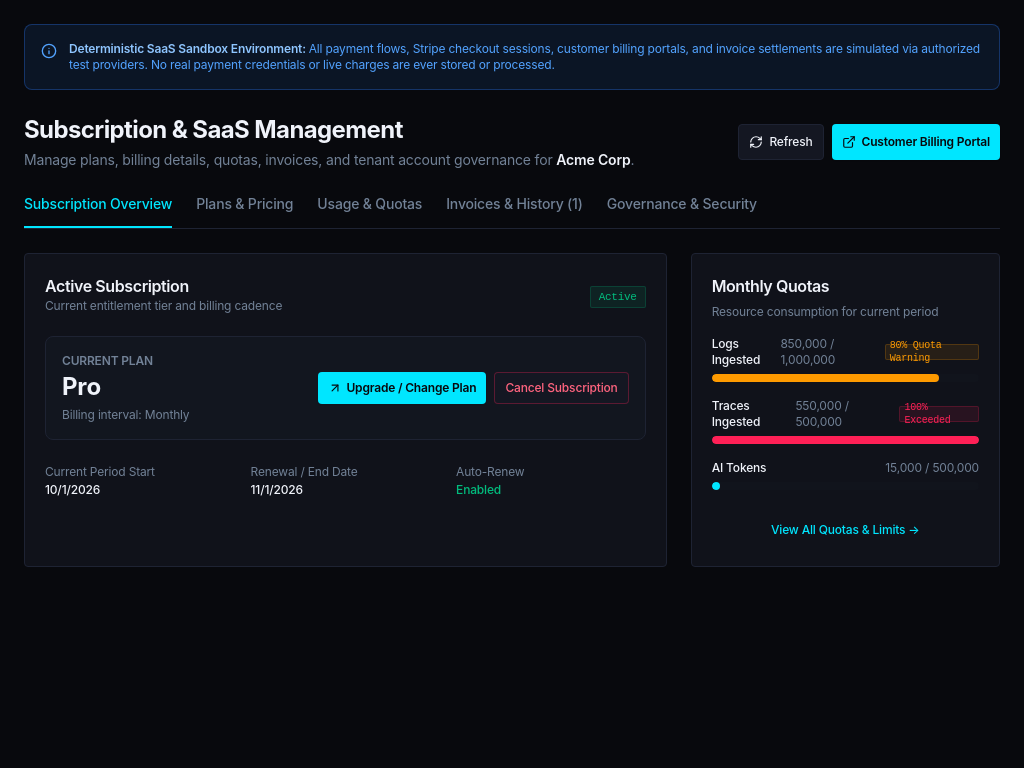
Test: BillingPage SaaS Management › renders usage and quota bars with warning and exceeded badges
Expected: the text "Acme Corp" is shown, [556, 151, 630, 168]
Expected: the button "Invoices & History (1)" is shown, [446, 194, 583, 228]
Step 1. Click the button "Usage & Quotas" → x=370, y=211, box [317, 194, 422, 228]
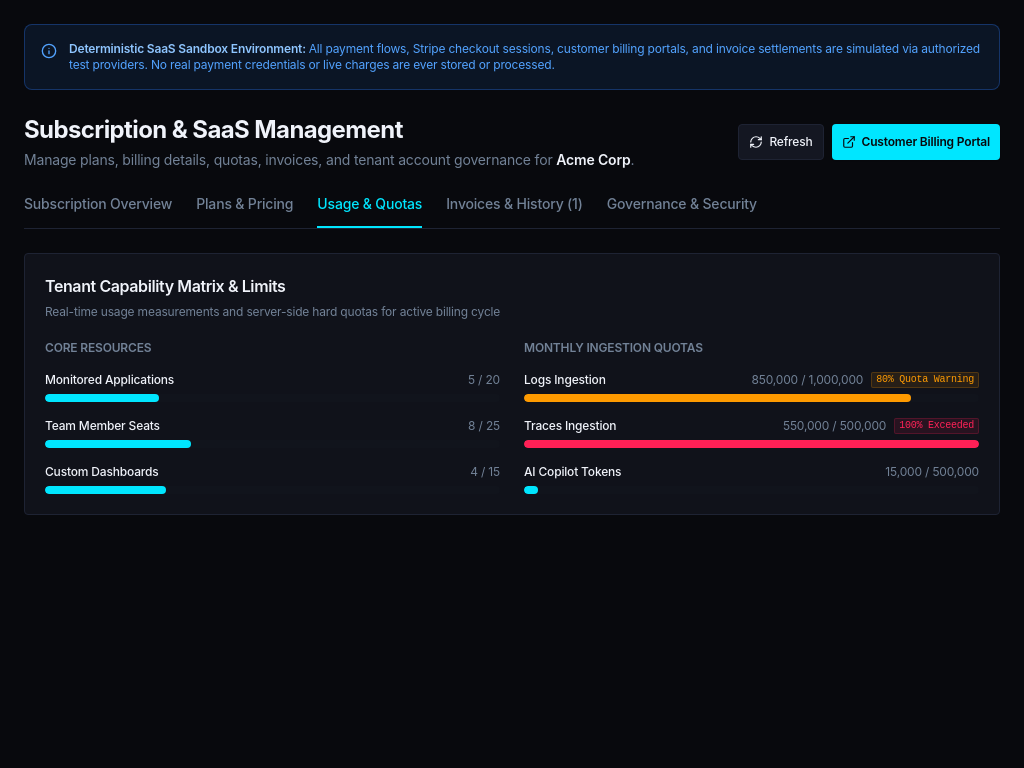
Expected: the text "80% Quota Warning" is shown, [871, 372, 979, 388]
Expected: the heading "Tenant Capability Matrix & Limits" is shown, [45, 276, 286, 296]
